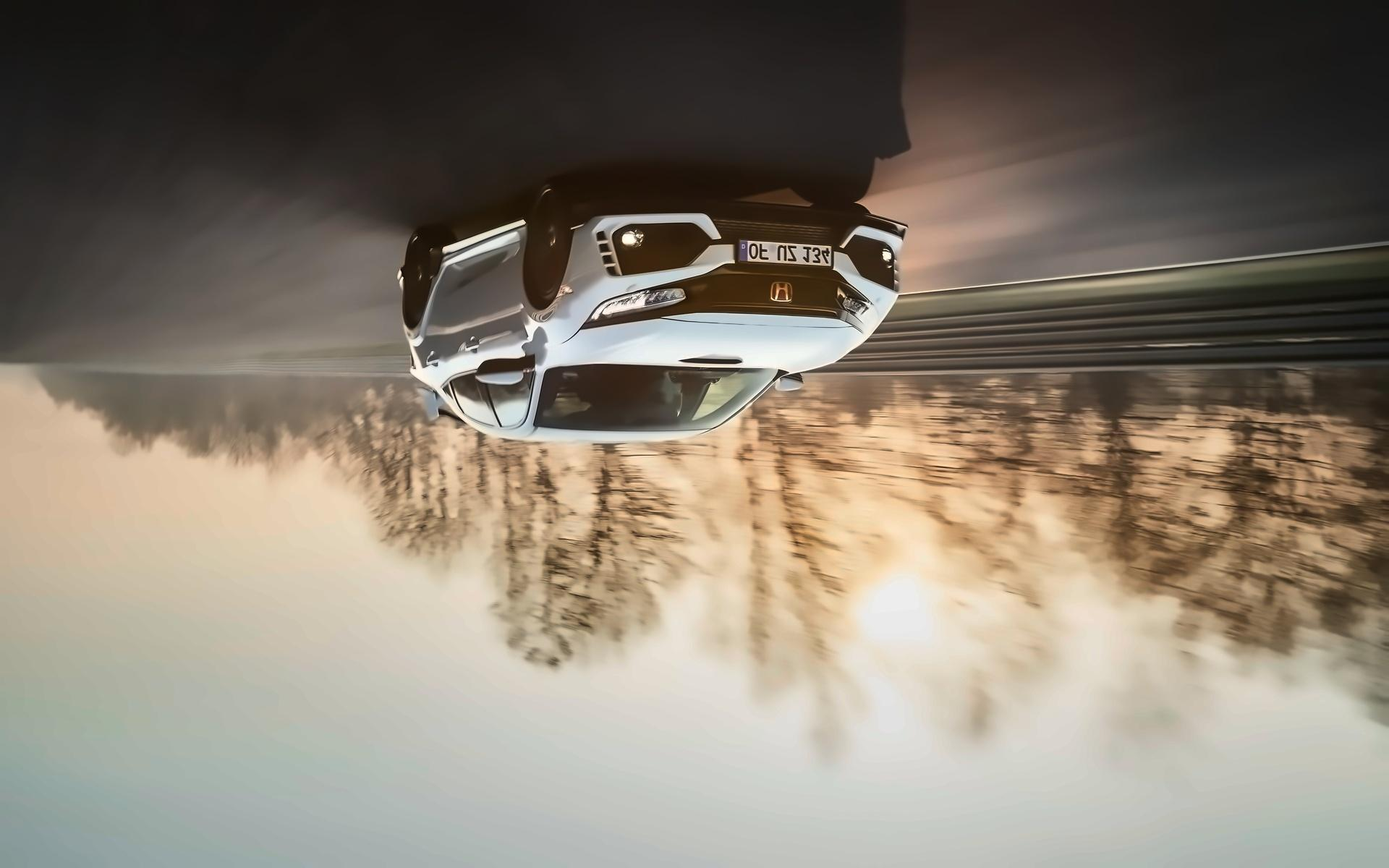Car hood: (554, 313, 869, 374)
Fender - -F-L-: (519, 220, 590, 371)
Fender - -R-L-: (411, 250, 447, 365)
Front bumper: (566, 195, 922, 306)
Headlight - -L-: (579, 284, 689, 328)
Headlight - -R-: (833, 286, 878, 331)
Passenger-s door - -F-L-: (463, 237, 525, 432)
Passenger-s door - -R-L-: (417, 256, 486, 432)
Rear light - -L-: (395, 348, 419, 386)
Side bumper - -L-: (437, 214, 532, 261)
Side mirror - -L-: (472, 356, 537, 391)
Side mirror - -R-: (769, 366, 811, 401)
